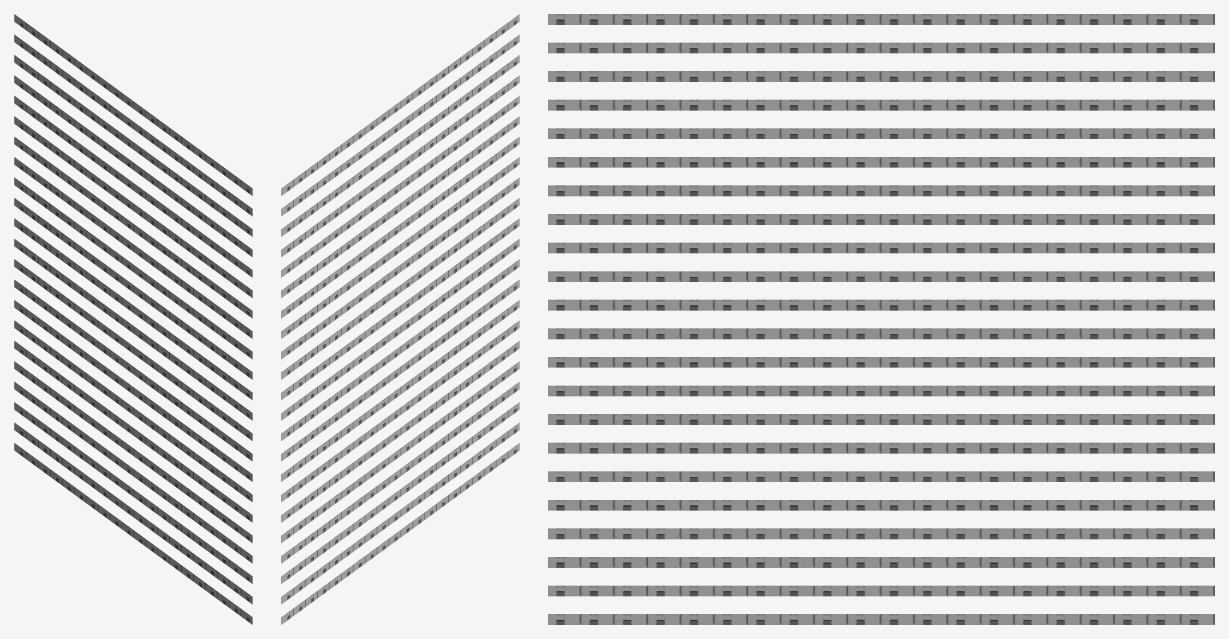
The model's file is PRS_LARGEwallwindows.FBX.
The picture shows the model from 3 angles, left to right: view 1: azimuth 30°, elevation 25°; view 2: azimuth 150°, elevation 25°; view 3: azimuth 270°, elevation 25°; orthographic projection. The views are drawn at different scales.
Parts seen in each view (by area): view 1: PRS_LARGEwallwindows; view 2: PRS_LARGEwallwindows; view 3: PRS_LARGEwallwindows.
Part boxes in pixels (left/top/right/bottom): PRS_LARGEwallwindows: left=14, top=14, right=252, bottom=624; PRS_LARGEwallwindows: left=281, top=14, right=519, bottom=624; PRS_LARGEwallwindows: left=548, top=14, right=1214, bottom=624.
Size of the model in its own units: 0.0137 by 114 by 112.
